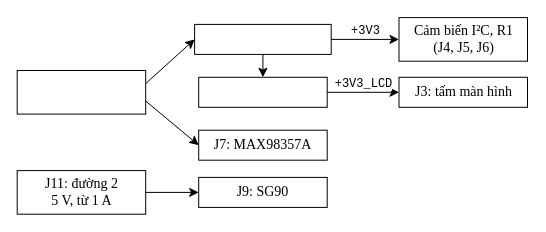
Some shapes in this 546 by 232 pixel diagram are drawn without their labels. The shapes that lost their labels are listed below. From the top down, each one's centre as x and y in pixels, then its label:
At (262,38): "U1: ESP32-S3-CAM".
At (81,92): "J10: đường 1 5 V, 2 A".
At (262,91): "U2: ổn áp 3,3 V".
